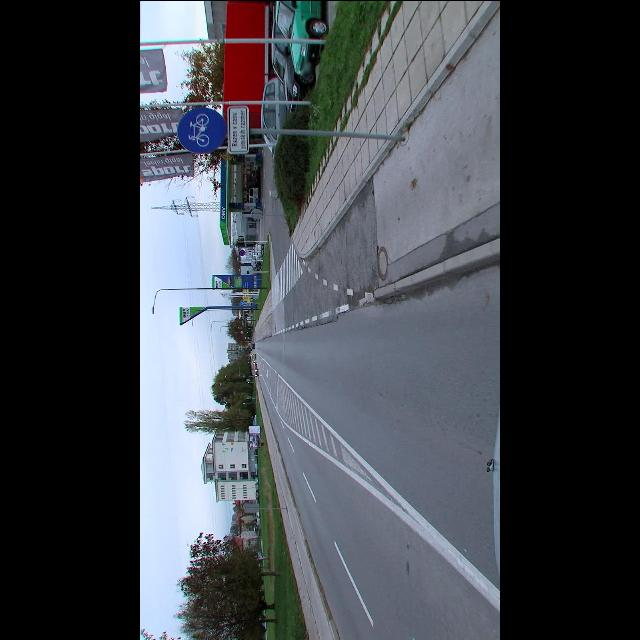Rectangle: (228, 105, 248, 151)
Round: (177, 106, 227, 152)
